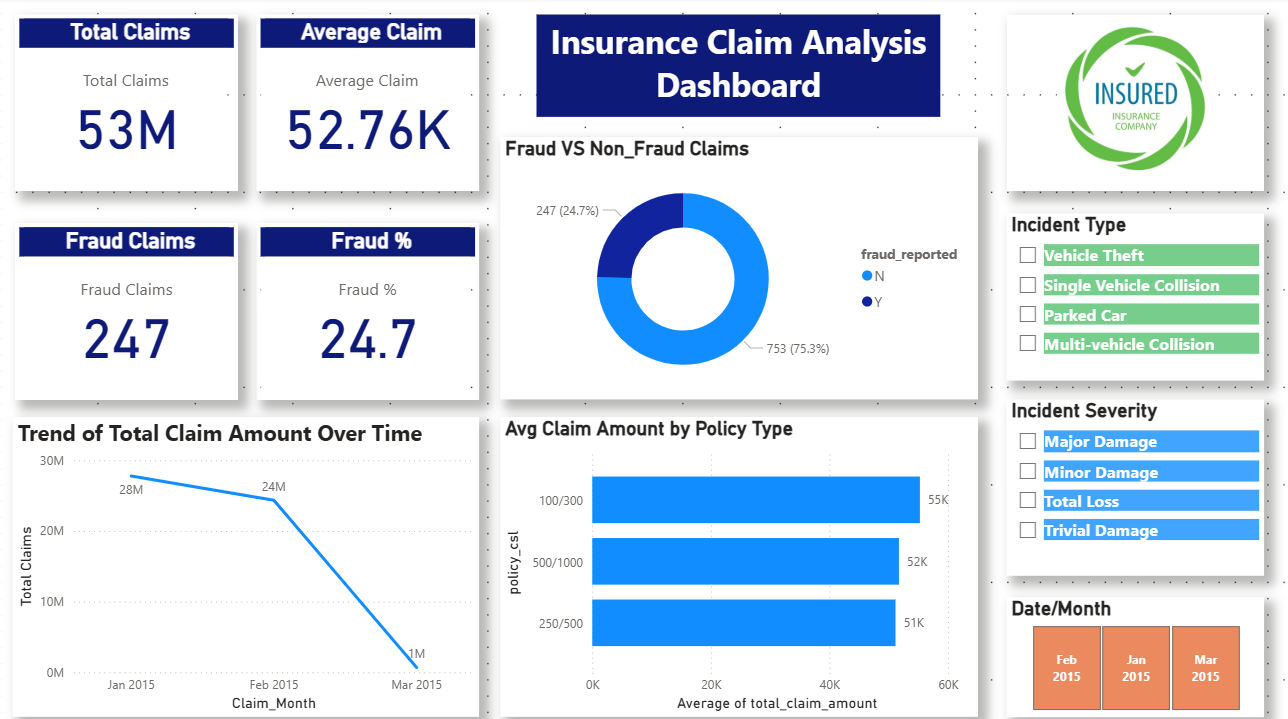

What the dashboard file says about the page in this screenshot:
{"tool":"powerbi","page":{"name":"Page 1","canvas":[1280,720],"ordinal":0},"visuals":[{"type":"cardVisual","title":"Total Claims","fields":{"Data":["insurance_claims.Total Claims"]},"box":[15.9,17.1,218.9,173.6],"z":0},{"type":"cardVisual","title":"Fraud %","fields":{"Data":["insurance_claims.Fraud %"]},"box":[253.5,222.8,219.1,173.5],"z":1000},{"type":"cardVisual","title":"Average Claim","fields":{"Data":["insurance_claims.Average Claim"]},"box":[253.1,17.1,218.9,173.6],"z":2000},{"type":"cardVisual","title":"Fraud Claims","fields":{"Data":["insurance_claims.Fraud Claims"]},"box":[16,222.8,219.1,173.5],"z":3000},{"type":"lineChart","title":"Trend of Total Claim Amount Over Time","fields":{"Y":["insurance_claims.Total Claims"],"Category":["insurance_claims.Claim_Month"]},"box":[13.5,413.5,459.1,295.4],"z":4000},{"type":"donutChart","title":"Fraud VS Non_Fraud Claims","fields":{"Category":["insurance_claims.fraud_reported"],"Y":["insurance_claims.Total Claims Count"]},"box":[493.5,137.8,470.2,258.5],"z":5000},{"type":"clusteredBarChart","title":"Avg Claim Amount by Policy Type","fields":{"Y":["Avg(insurance_claims.total_claim_amount)"],"Category":["insurance_claims.policy_csl"]},"box":[493.5,413.5,470.2,295.4],"z":6000},{"type":"slicer","title":"Incident Type","fields":{"Values":["insurance_claims.incident_type"]},"box":[992,212.9,253.5,164.9],"z":7000},{"type":"slicer","title":"Incident Severity","fields":{"Values":["insurance_claims.incident_severity"]},"box":[992,396.3,253.5,173.5],"z":8000},{"type":"slicer","title":"Date/Month","fields":{"Values":["insurance_claims.Claim_Month"]},"box":[992,590.8,253.5,118.2],"z":9000},{"type":"textbox","box":[529.2,17.2,397.5,100.9],"z":10000},{"type":"image","box":[992,17.2,253.5,173.5],"z":11000}]}

Visuals, with their boxes in screenshot pixels (x1, y1, x2, y2), scaled from the page's 1280x720 canvas onto the 1288x719 screenshot:
"Total Claims" cardVisual: crop(16, 17, 236, 190)
"Fraud %" cardVisual: crop(255, 222, 476, 396)
"Average Claim" cardVisual: crop(255, 17, 475, 190)
"Fraud Claims" cardVisual: crop(16, 222, 237, 396)
"Trend of Total Claim Amount Over Time" lineChart: crop(14, 413, 476, 708)
"Fraud VS Non_Fraud Claims" donutChart: crop(497, 138, 970, 396)
"Avg Claim Amount by Policy Type" clusteredBarChart: crop(497, 413, 970, 708)
"Incident Type" slicer: crop(998, 213, 1253, 377)
"Incident Severity" slicer: crop(998, 396, 1253, 569)
"Date/Month" slicer: crop(998, 590, 1253, 708)
textbox: crop(533, 17, 932, 118)
image: crop(998, 17, 1253, 190)
